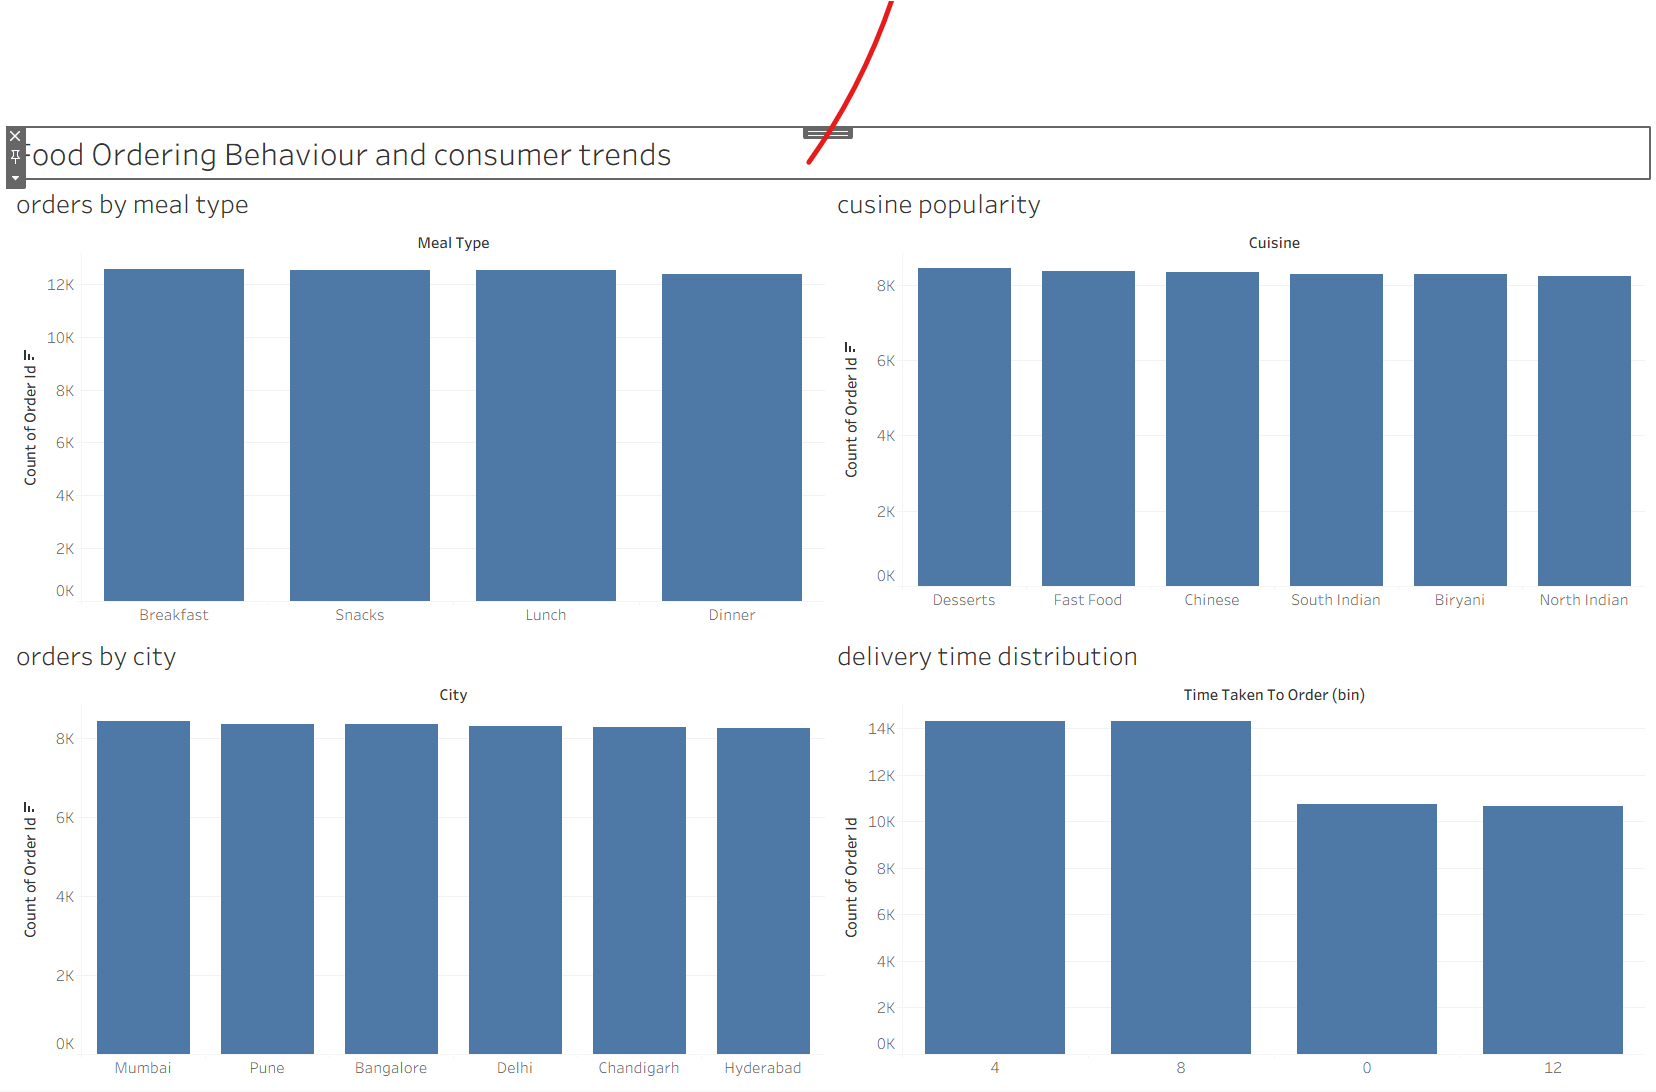

This screenshot's page, from the dashboard's own definition file:
{"tool":"tableau","page":{"name":"food ordering dashboard","canvas":[1000,1000],"units":"permille","ordinal":0},"visuals":[{"type":"title","box":[4.8,8.2,990.3,51.5]},{"type":"worksheet","title":"orders by meal type","mark":"Automatic","rows":["order_id"],"cols":["meal_type"],"box":[4.8,59.7,495.2,466]},{"type":"worksheet","title":"cusine popularity","mark":"Automatic","rows":["order_id"],"cols":["cuisine"],"box":[500,59.7,495.2,466]},{"type":"worksheet","title":"orders by city","mark":"Automatic","rows":["order_id"],"cols":["city"],"box":[4.8,525.7,495.2,466]},{"type":"worksheet","title":"delivery time distribution","mark":"Automatic","rows":["order_id"],"cols":["Time Taken To Order (bin)"],"box":[500,525.7,495.2,466]}]}

Visuals, with their boxes on the dashboard's canvas, which has no fixed pixel size, in thousandths of its width and height (x1, y1, x2, y2). These are canvas units, not pixel positions in the 1656x1092 screenshot, which may show the page scaled, cropped or inside an application window:
title: 5 8 995 60
"orders by meal type" worksheet: 5 60 500 526
"cusine popularity" worksheet: 500 60 995 526
"orders by city" worksheet: 5 526 500 992
"delivery time distribution" worksheet: 500 526 995 992
